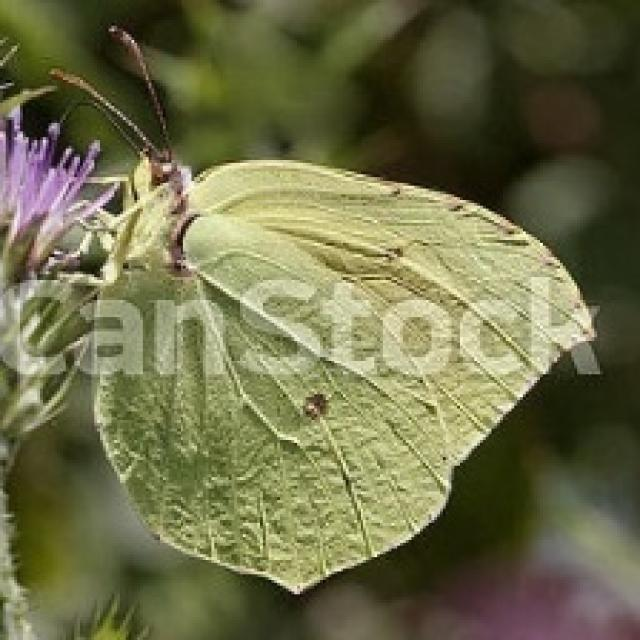butterfly: (43, 20, 603, 594)
